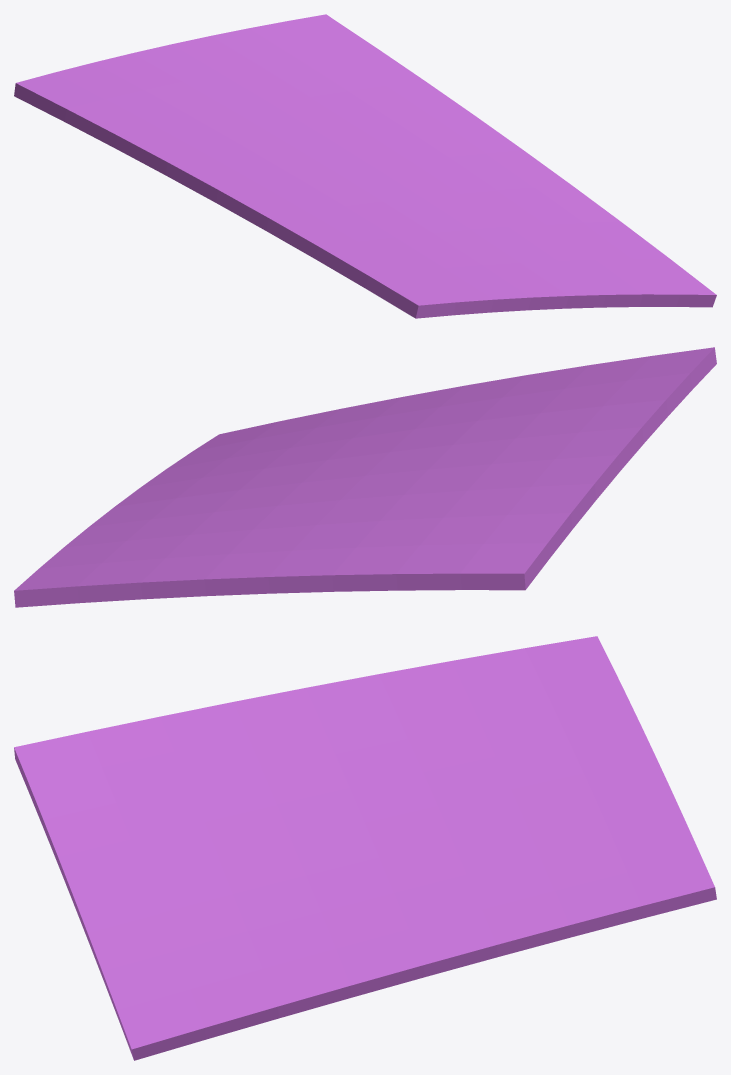
File: desksetupPaper.fbx
The picture shows the model from 3 angles, top to bottom: view 1: azimuth 30°, elevation 25°; view 2: azimuth 150°, elevation 25°; view 3: azimuth 270°, elevation 25°; orthographic projection. The views are drawn at different scales.
Visible parts, largest first — view 1: paper; view 2: paper; view 3: paper.
Boxes of the visible parts, x1=… form: paper: x1=14, y1=14, x2=716, y2=318; paper: x1=14, y1=347, x2=716, y2=607; paper: x1=14, y1=636, x2=716, y2=1060.
Bounding box in the file's own units: 190 × 67.13 × 232.
